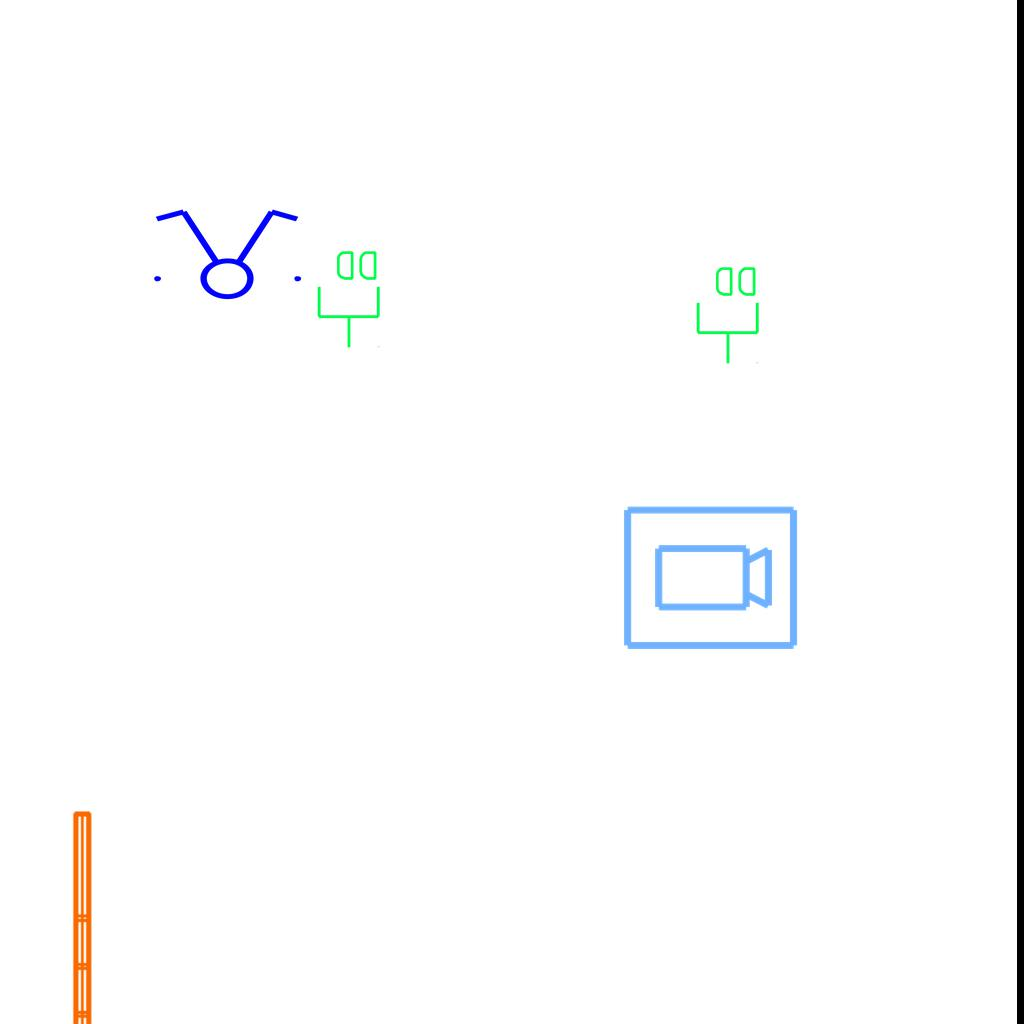Ambulanz_Pendelleuchte_LED: (67, 806, 123, 1024)
Datenanschluss_zweifach: (315, 247, 384, 350), (694, 263, 763, 366)
KFO_Kamera_mit_Festobjektiv: (619, 502, 801, 656)
Serienschalter: (142, 205, 310, 301)
